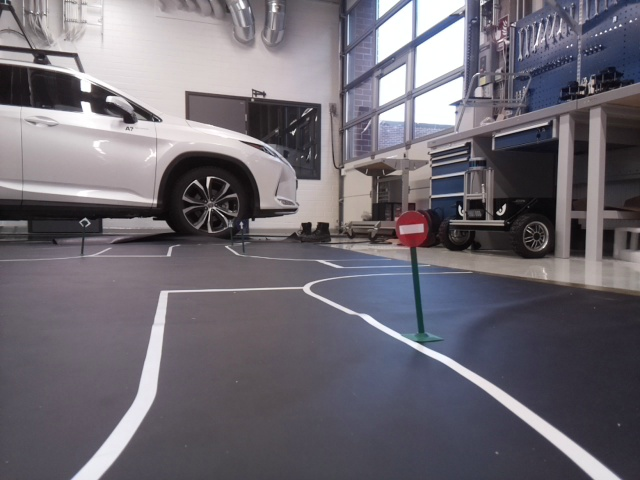NoEntry: (395, 210, 427, 248)
OneWay: (237, 220, 246, 230)
